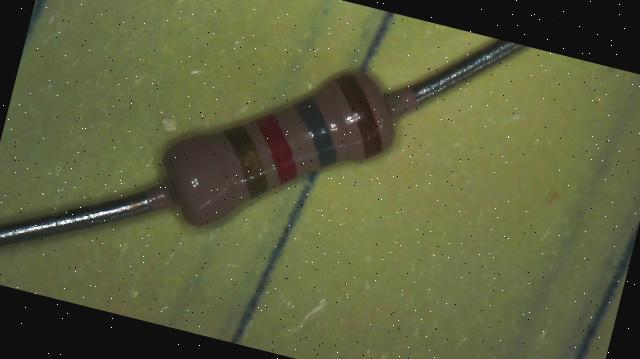brown: (319, 71, 397, 160)
gold: (212, 123, 281, 201)
grey: (282, 94, 348, 170)
red: (242, 111, 308, 186)
resistor: (142, 39, 429, 251)
